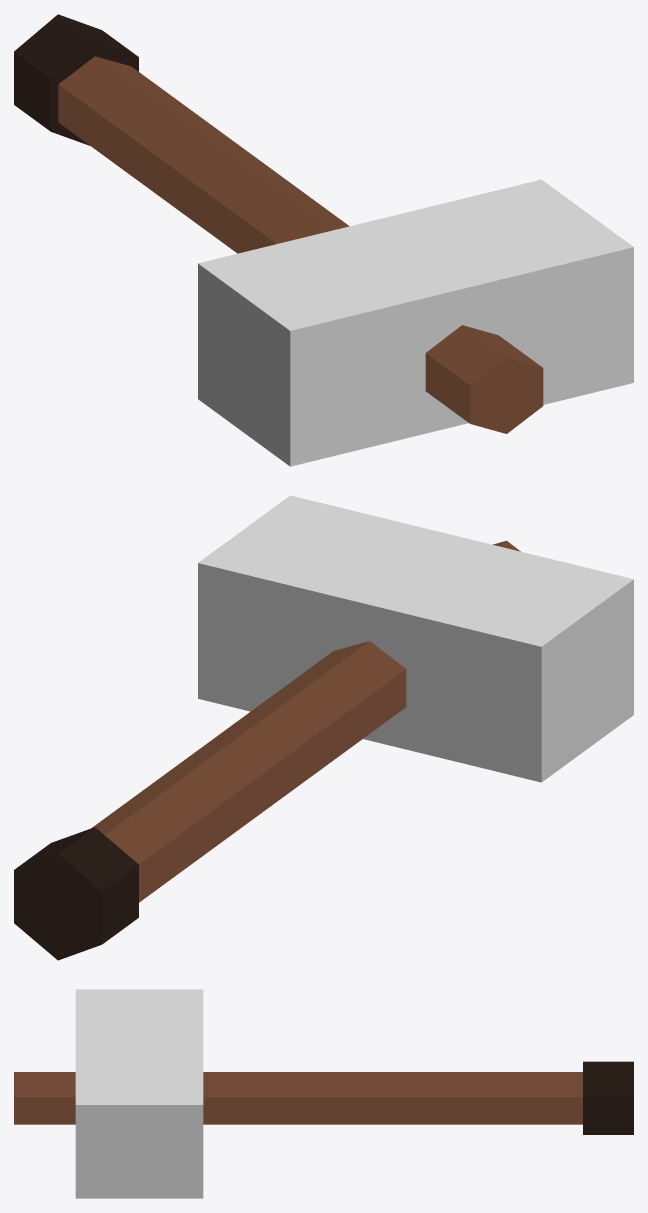
The model's file is SalvagingKit.glb.
3 views of the same model, one above another, from view 1: azimuth 30°, elevation 25°; view 2: azimuth 150°, elevation 25°; view 3: azimuth 270°, elevation 25° (orthographic). The views are drawn at different scales.
Parts seen in each view (by area): view 1: Cylinder, Rod, Base; view 2: Cylinder, Rod, Base; view 3: Cylinder, Rod, Base.
Boxes of the visible parts, x1,y1,x2,y2 form: Cylinder: (198,179,633,466); Rod: (58,56,543,433); Base: (14,14,138,145); Cylinder: (198,495,633,782); Rod: (91,540,520,902); Base: (14,827,138,960); Cylinder: (75,989,203,1198); Rod: (14,1072,582,1124); Base: (583,1061,633,1134).
Size of the model in its own units: 1.13 by 0.4279 by 2.56.
Materials: 2 (2 with a texture image).
